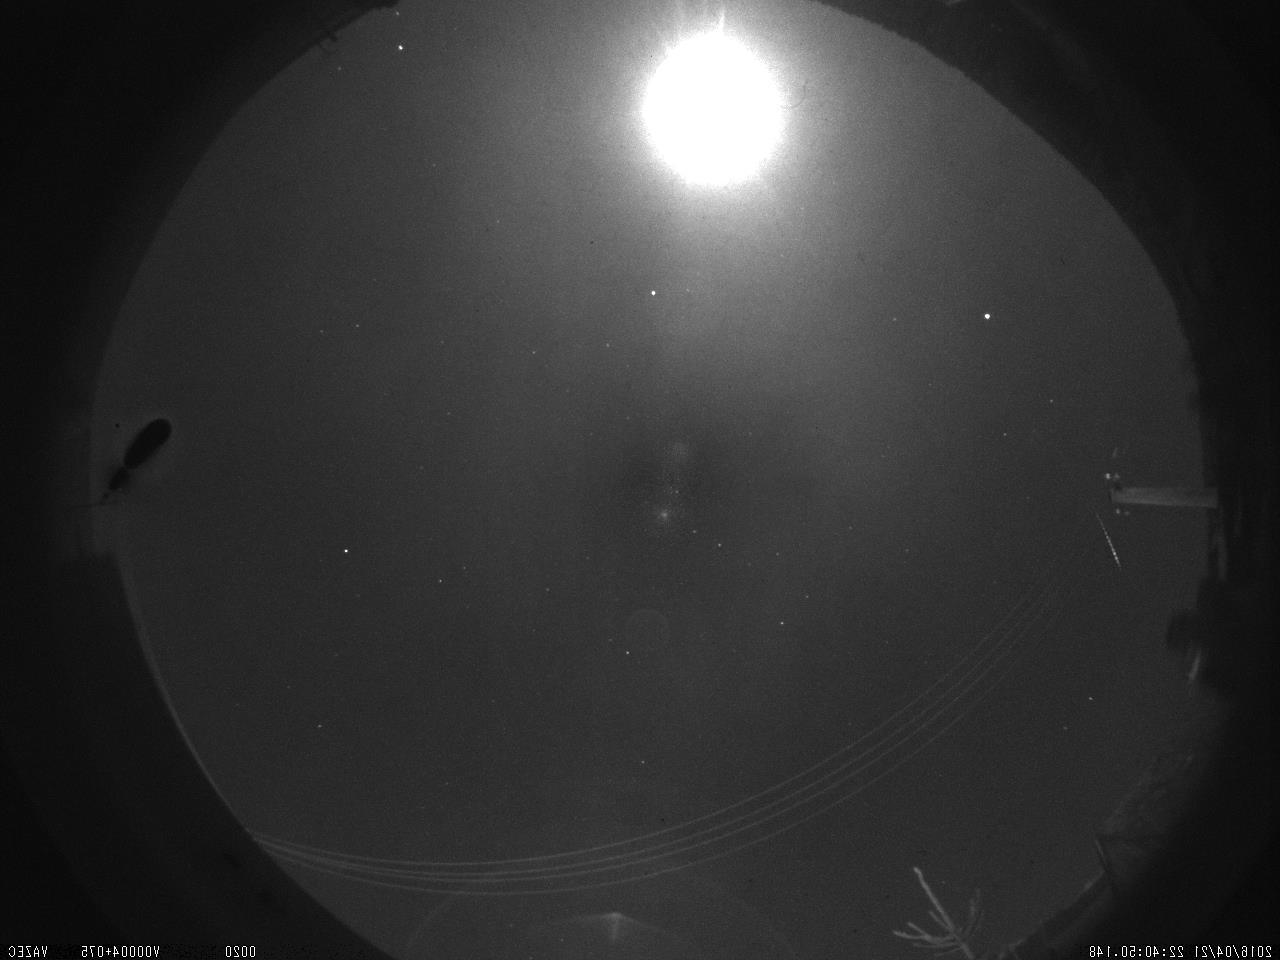meteor: (1081, 510, 1129, 590)
